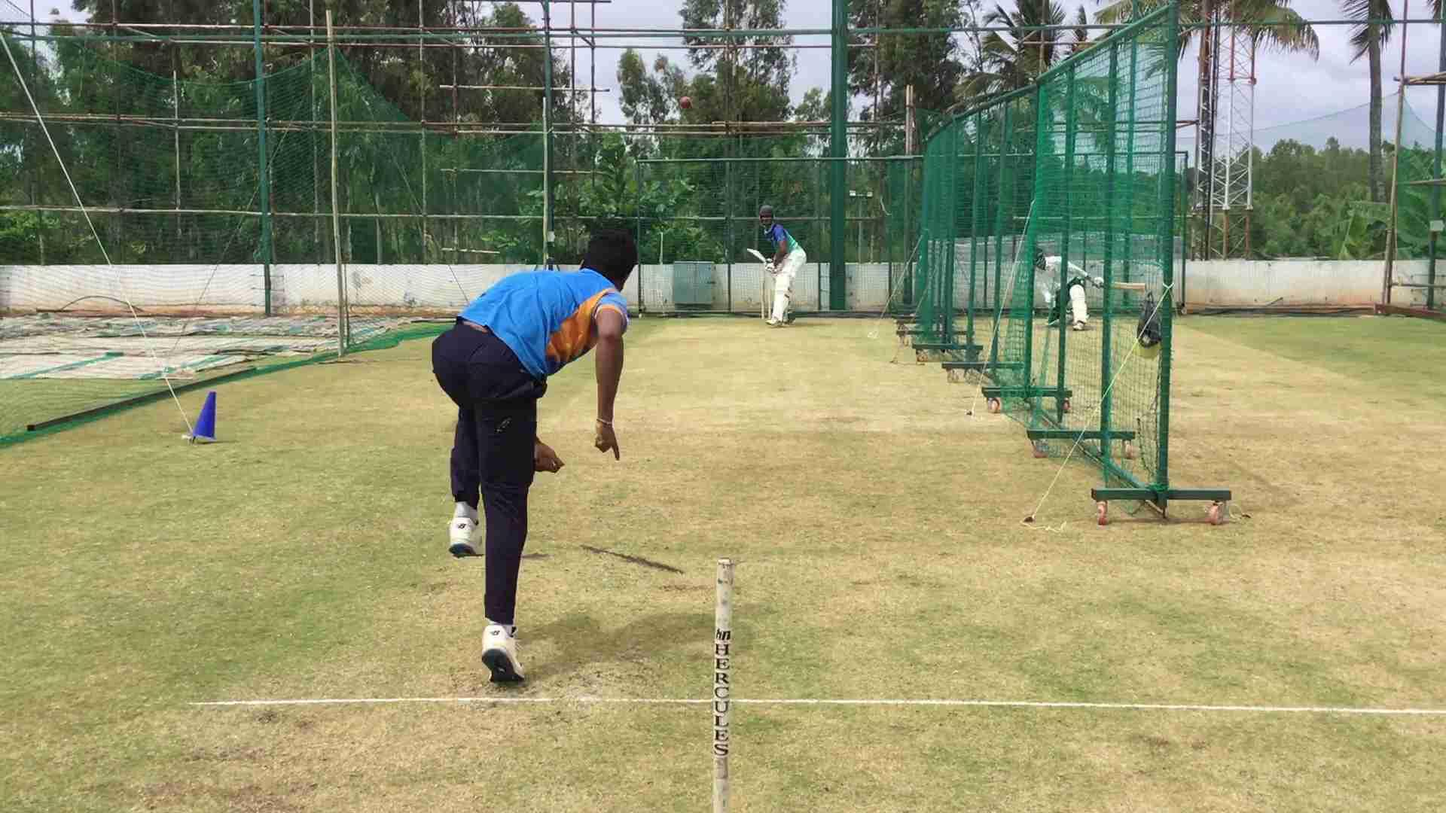batsman: (754, 201, 810, 326)
